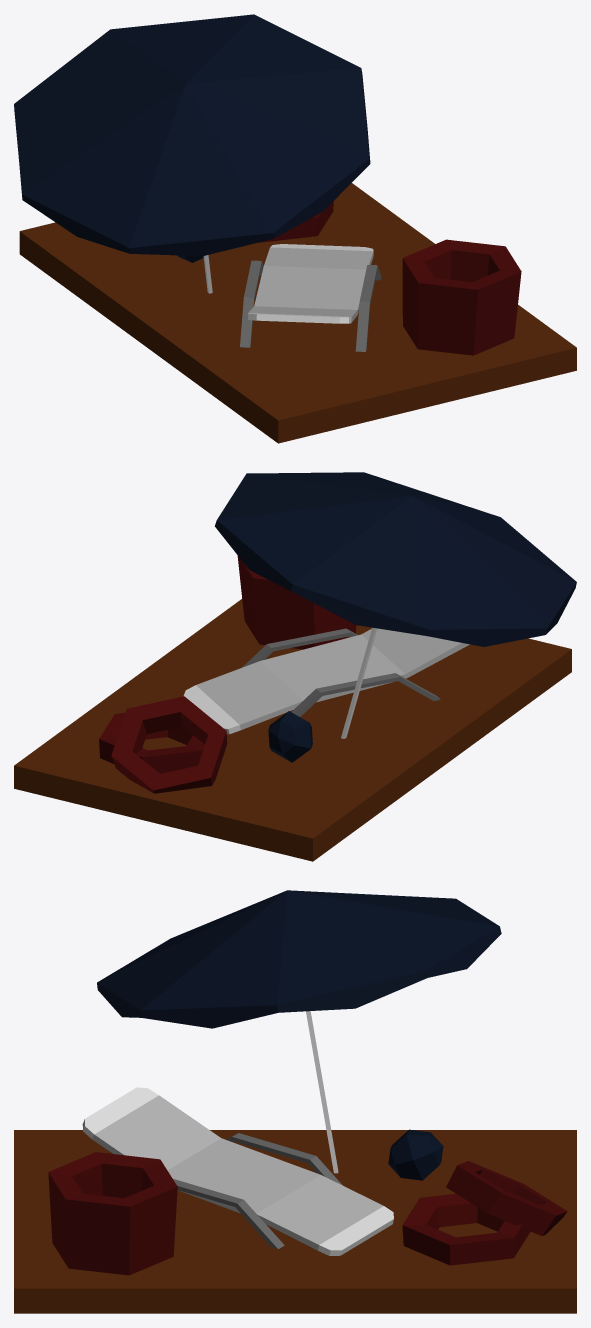
Rendered from W_O_Playground_BeachSymbolic_002_L3.fbx.
3 views of the same model, one above another, from view 1: azimuth 30°, elevation 25°; view 2: azimuth 150°, elevation 25°; view 3: azimuth 270°, elevation 25° (orthographic). The views are drawn at different scales.
Parts seen in each view (by area): view 1: W_O_Playground_BeachSymbolic_002_L3; view 2: W_O_Playground_BeachSymbolic_002_L3; view 3: W_O_Playground_BeachSymbolic_002_L3.
Boxes of the visible parts, box(x1,y1,x2,y2) form: W_O_Playground_BeachSymbolic_002_L3: box(14, 14, 576, 443); W_O_Playground_BeachSymbolic_002_L3: box(14, 472, 576, 861); W_O_Playground_BeachSymbolic_002_L3: box(14, 890, 576, 1313).
Size of the model in its own units: 2.77 by 1.66 by 3.
